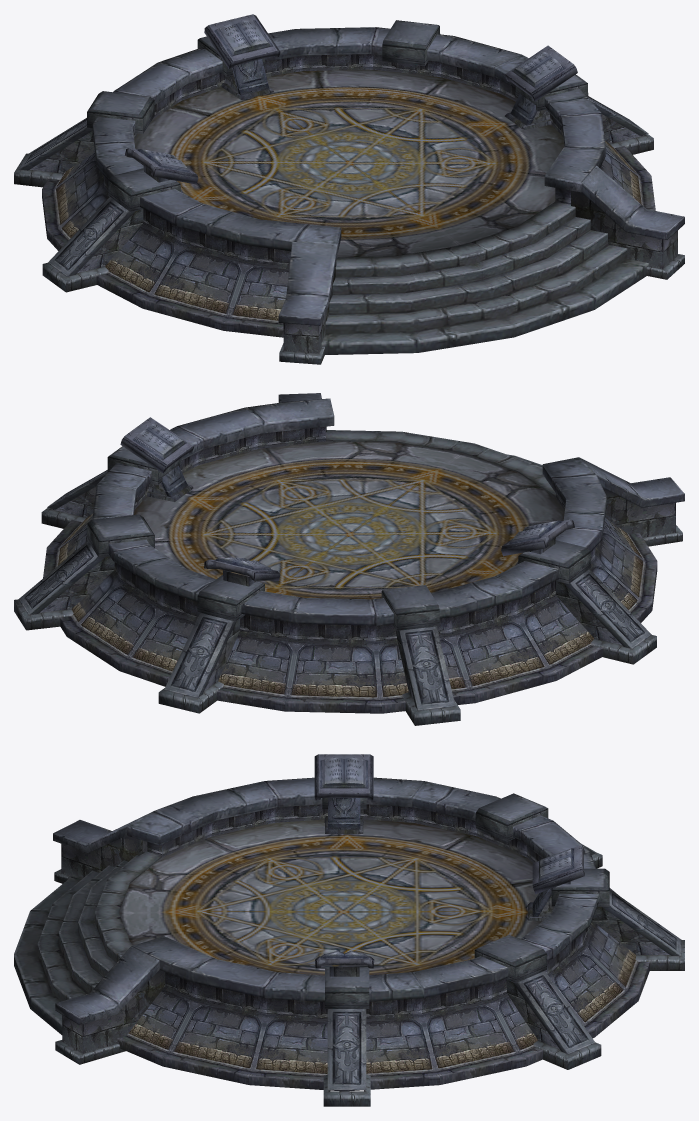
3 views of the same model, one above another, from view 1: azimuth 30°, elevation 25°; view 2: azimuth 150°, elevation 25°; view 3: azimuth 270°, elevation 25° (orthographic).
Visible parts, largest first — view 1: 293614; view 2: 293614; view 3: 293614.
Boxes of the visible parts, x1=… form: 293614: x1=14, y1=14, x2=684, y2=364; 293614: x1=14, y1=393, x2=684, y2=725; 293614: x1=14, y1=754, x2=684, y2=1106.
Bounding box in the file's own units: 570 × 103 × 562.
